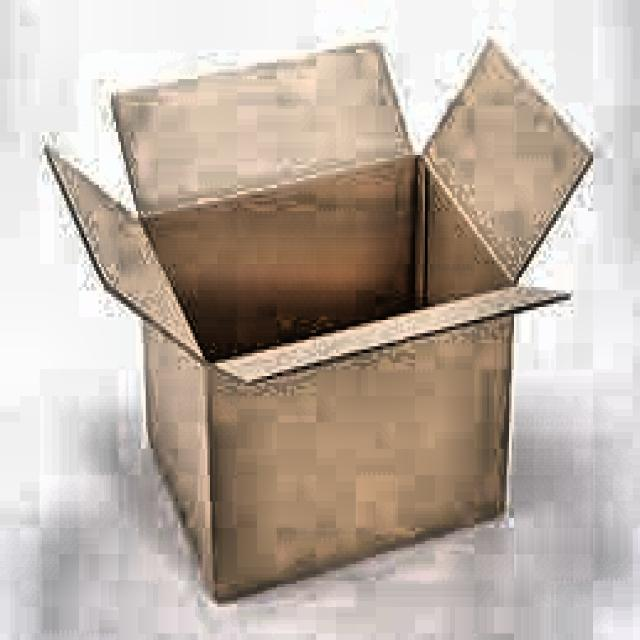cardboard: (42, 32, 591, 600)
